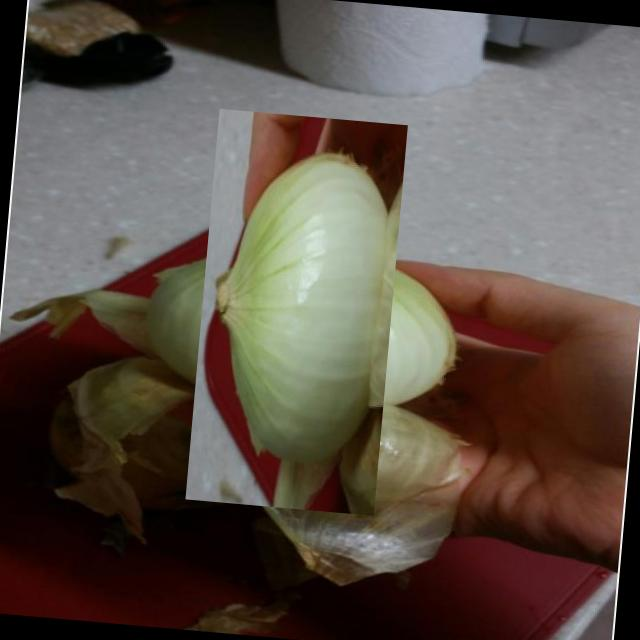Onion: (139, 155, 454, 470)
